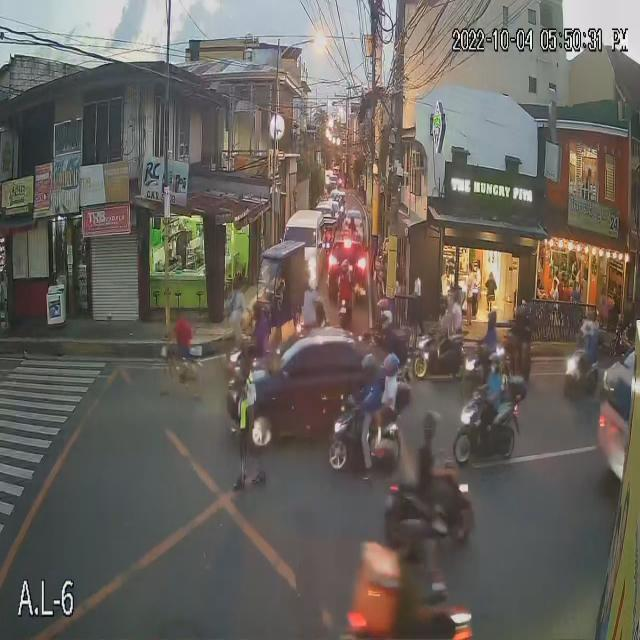helmet: (395, 514, 426, 566), (418, 407, 440, 445), (485, 347, 504, 380), (384, 349, 400, 379), (301, 273, 321, 296), (364, 354, 380, 382), (247, 300, 269, 320), (482, 309, 499, 331), (376, 308, 395, 327), (336, 256, 353, 276), (376, 294, 388, 312)
motorcycle: (395, 472, 481, 538), (347, 597, 477, 640), (454, 392, 523, 468), (329, 408, 400, 479), (412, 334, 467, 386), (556, 354, 605, 398), (492, 343, 539, 385), (225, 341, 270, 383), (463, 344, 500, 387), (300, 305, 332, 342), (365, 329, 404, 359), (336, 287, 356, 326)
rider: (384, 514, 438, 611), (408, 409, 452, 495), (434, 281, 466, 343), (378, 347, 406, 417), (356, 350, 382, 423), (242, 300, 271, 357), (574, 312, 602, 364), (486, 350, 508, 415), (475, 307, 500, 363), (297, 277, 323, 327), (332, 254, 354, 305), (508, 301, 532, 347), (379, 307, 397, 348), (374, 295, 388, 334)
